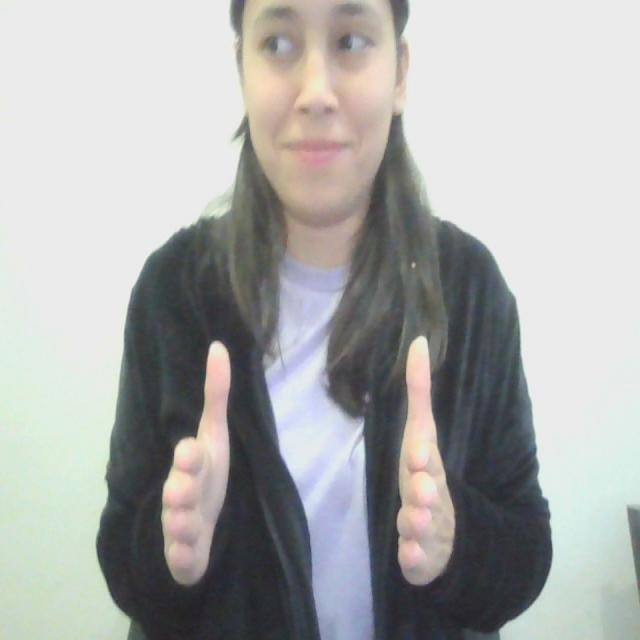Nasil: (152, 323, 461, 606)
